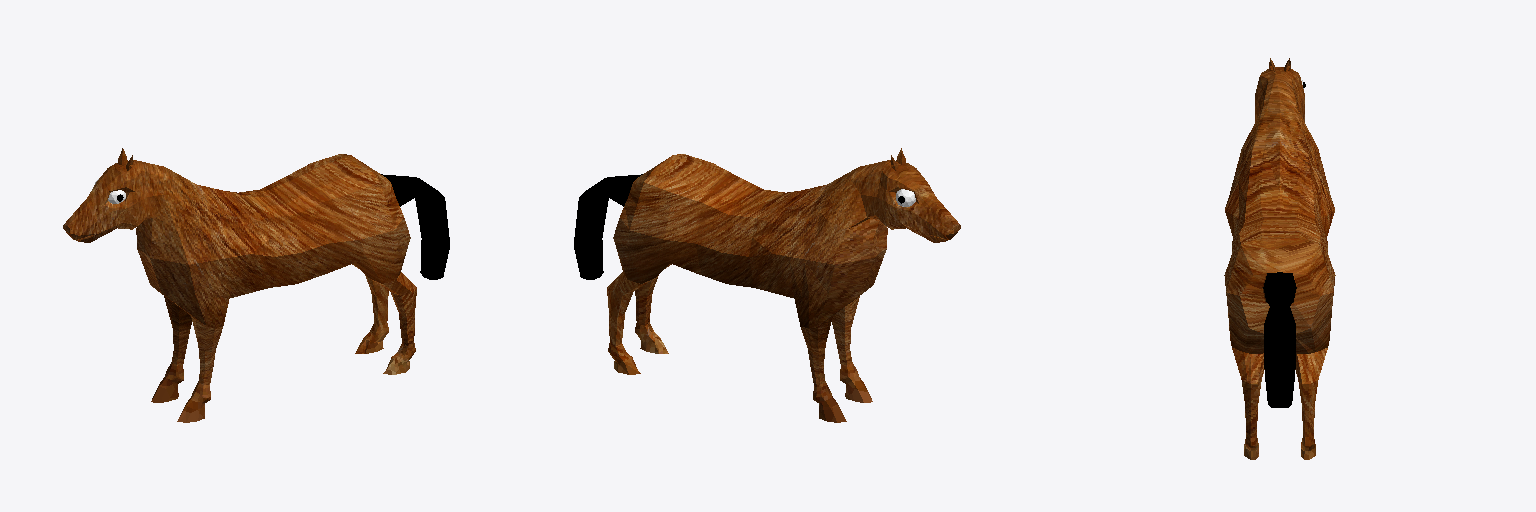
The picture shows the model from 3 angles: view 1: azimuth 30°, elevation 25°; view 2: azimuth 150°, elevation 25°; view 3: azimuth 270°, elevation 25°; orthographic projection.
Parts seen in each view (by area): view 1: Body, Tail, BackLeft, FrontLeft, FrontRight, BackRight; view 2: Body, Tail, BackRight, FrontRight, FrontLeft, BackLeft; view 3: Body, Tail, BackRight, BackLeft.
Boxes of the visible parts, <box> form: Body: <box>63,148,410,327</box>; Tail: <box>381,174,449,279</box>; BackLeft: <box>371,272,416,374</box>; FrontLeft: <box>177,316,222,422</box>; FrontRight: <box>151,296,191,402</box>; BackRight: <box>352,264,388,353</box>; Body: <box>613,148,960,327</box>; Tail: <box>574,174,642,279</box>; BackRight: <box>607,272,652,374</box>; FrontRight: <box>801,316,846,422</box>; FrontLeft: <box>832,296,872,402</box>; BackLeft: <box>635,264,671,353</box>; Body: <box>1224,58,1335,353</box>; Tail: <box>1263,272,1296,407</box>; BackRight: <box>1295,348,1327,459</box>; BackLeft: <box>1232,348,1264,459</box>.
Bounding box in the file's own units: 5.63 × 3.85 × 1.42.
Materials: 3 (3 with a texture image).